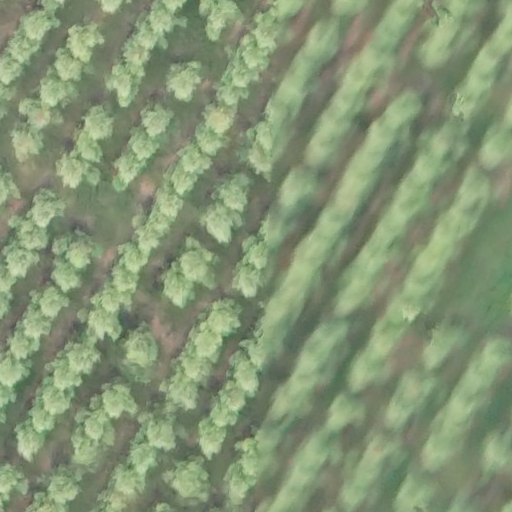eucalipto: (53, 228, 101, 270), (170, 459, 215, 502), (295, 435, 340, 477), (426, 119, 469, 161), (71, 411, 115, 452), (267, 393, 313, 430), (299, 23, 343, 61), (65, 23, 106, 63), (140, 410, 179, 451), (199, 207, 241, 245), (304, 325, 348, 361), (236, 440, 275, 480), (124, 329, 162, 370), (336, 264, 378, 301), (49, 46, 88, 85), (177, 249, 217, 287), (222, 464, 262, 502), (107, 66, 144, 107), (198, 1, 239, 38), (186, 321, 223, 362), (325, 396, 367, 432), (158, 262, 193, 305), (396, 267, 443, 299), (53, 154, 97, 188), (302, 129, 339, 169), (166, 61, 202, 102), (34, 76, 78, 109), (107, 461, 147, 497), (295, 354, 338, 387), (87, 283, 134, 313), (97, 382, 135, 419), (452, 177, 489, 215), (15, 418, 49, 459), (283, 167, 317, 208), (2, 243, 39, 280), (214, 175, 251, 212), (10, 216, 48, 252), (18, 97, 58, 131), (230, 354, 263, 395), (175, 351, 211, 388), (439, 205, 477, 240), (131, 19, 171, 52), (317, 107, 358, 139), (25, 191, 63, 225), (287, 242, 330, 272), (350, 148, 389, 181), (196, 418, 227, 459), (247, 17, 282, 53), (236, 40, 272, 75), (418, 38, 453, 74), (316, 201, 358, 231), (285, 52, 323, 85), (369, 317, 407, 350), (281, 268, 321, 299), (378, 402, 418, 433), (107, 262, 142, 297), (207, 301, 242, 336), (413, 150, 448, 185), (223, 58, 262, 89), (392, 374, 431, 405), (10, 125, 45, 159), (7, 325, 42, 359), (426, 221, 460, 256), (464, 353, 497, 389), (136, 104, 173, 136), (269, 292, 307, 323), (118, 240, 152, 274), (80, 108, 115, 141), (111, 152, 147, 184), (254, 214, 286, 250), (84, 311, 122, 341), (328, 88, 367, 117), (70, 131, 105, 163), (371, 215, 406, 247), (474, 134, 503, 172), (21, 305, 55, 337), (418, 441, 450, 475), (35, 287, 70, 318), (233, 263, 268, 294), (215, 78, 251, 108), (347, 459, 383, 489), (139, 3, 172, 35), (152, 189, 184, 222), (386, 90, 419, 122), (241, 338, 273, 371), (450, 87, 482, 120), (201, 104, 236, 134), (18, 12, 54, 41), (195, 126, 231, 155), (334, 484, 371, 512), (484, 427, 512, 464), (165, 378, 197, 410), (1, 352, 32, 385), (126, 131, 160, 161), (342, 66, 377, 95), (367, 23, 404, 50), (245, 147, 276, 179), (241, 236, 272, 268), (7, 34, 40, 64), (367, 117, 400, 147), (47, 267, 85, 293), (411, 251, 445, 280), (418, 341, 452, 370), (247, 122, 282, 150), (470, 51, 505, 79), (215, 382, 246, 413), (209, 396, 239, 428), (127, 444, 159, 473), (179, 147, 212, 175), (65, 346, 100, 372), (168, 164, 199, 193), (440, 397, 471, 426), (40, 384, 72, 412), (50, 362, 83, 389), (388, 195, 415, 228), (46, 478, 82, 502), (137, 214, 170, 240), (386, 1, 421, 25), (28, 403, 57, 431), (482, 339, 512, 366), (463, 71, 495, 96), (268, 1, 303, 23), (131, 229, 163, 253), (325, 1, 370, 18), (1, 468, 22, 503), (361, 340, 390, 365), (384, 306, 412, 329), (1, 56, 25, 82)
